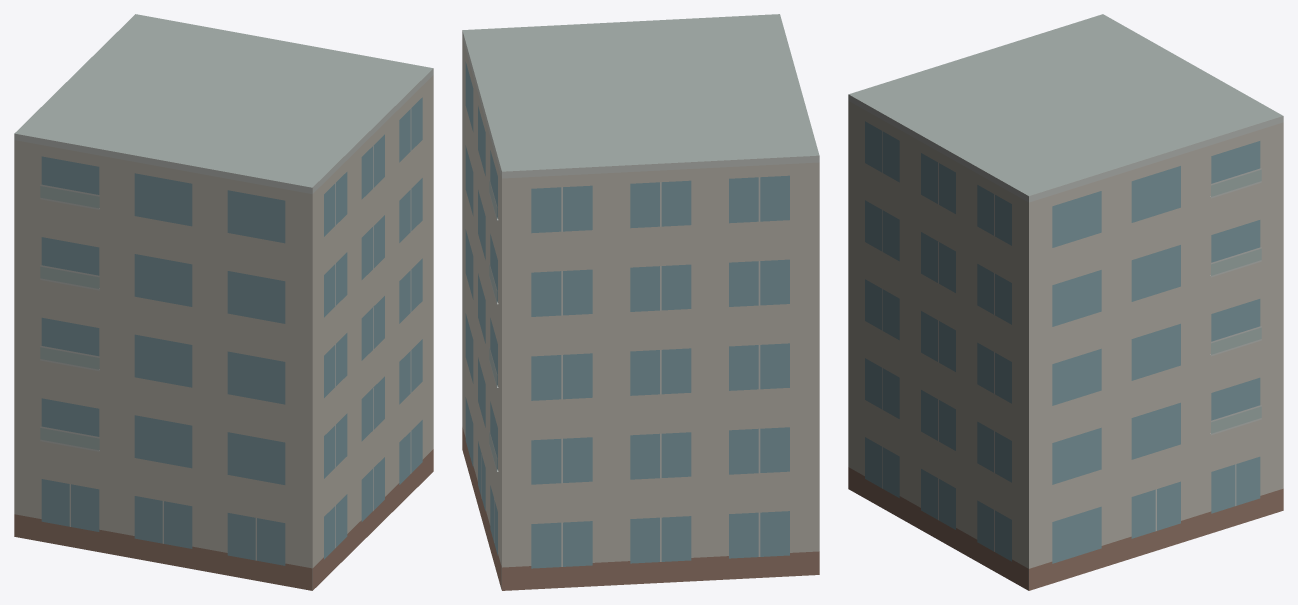
File: survey-upis-32884307.glb
The picture shows the model from 3 angles, left to right: view 1: azimuth 30°, elevation 25°; view 2: azimuth 150°, elevation 25°; view 3: azimuth 270°, elevation 25°; orthographic projection. The views are drawn at different scales.
Parts seen in each view (by area): view 1: survey-upis-32884307.tmp; view 2: survey-upis-32884307.tmp; view 3: survey-upis-32884307.tmp.
Boxes of the visible parts, box(x1,y1,x2,y2) form: survey-upis-32884307.tmp: box(14, 14, 433, 590); survey-upis-32884307.tmp: box(462, 14, 819, 590); survey-upis-32884307.tmp: box(848, 14, 1283, 590).
Size of the model in its own units: 14.86 by 15 by 14.99.
